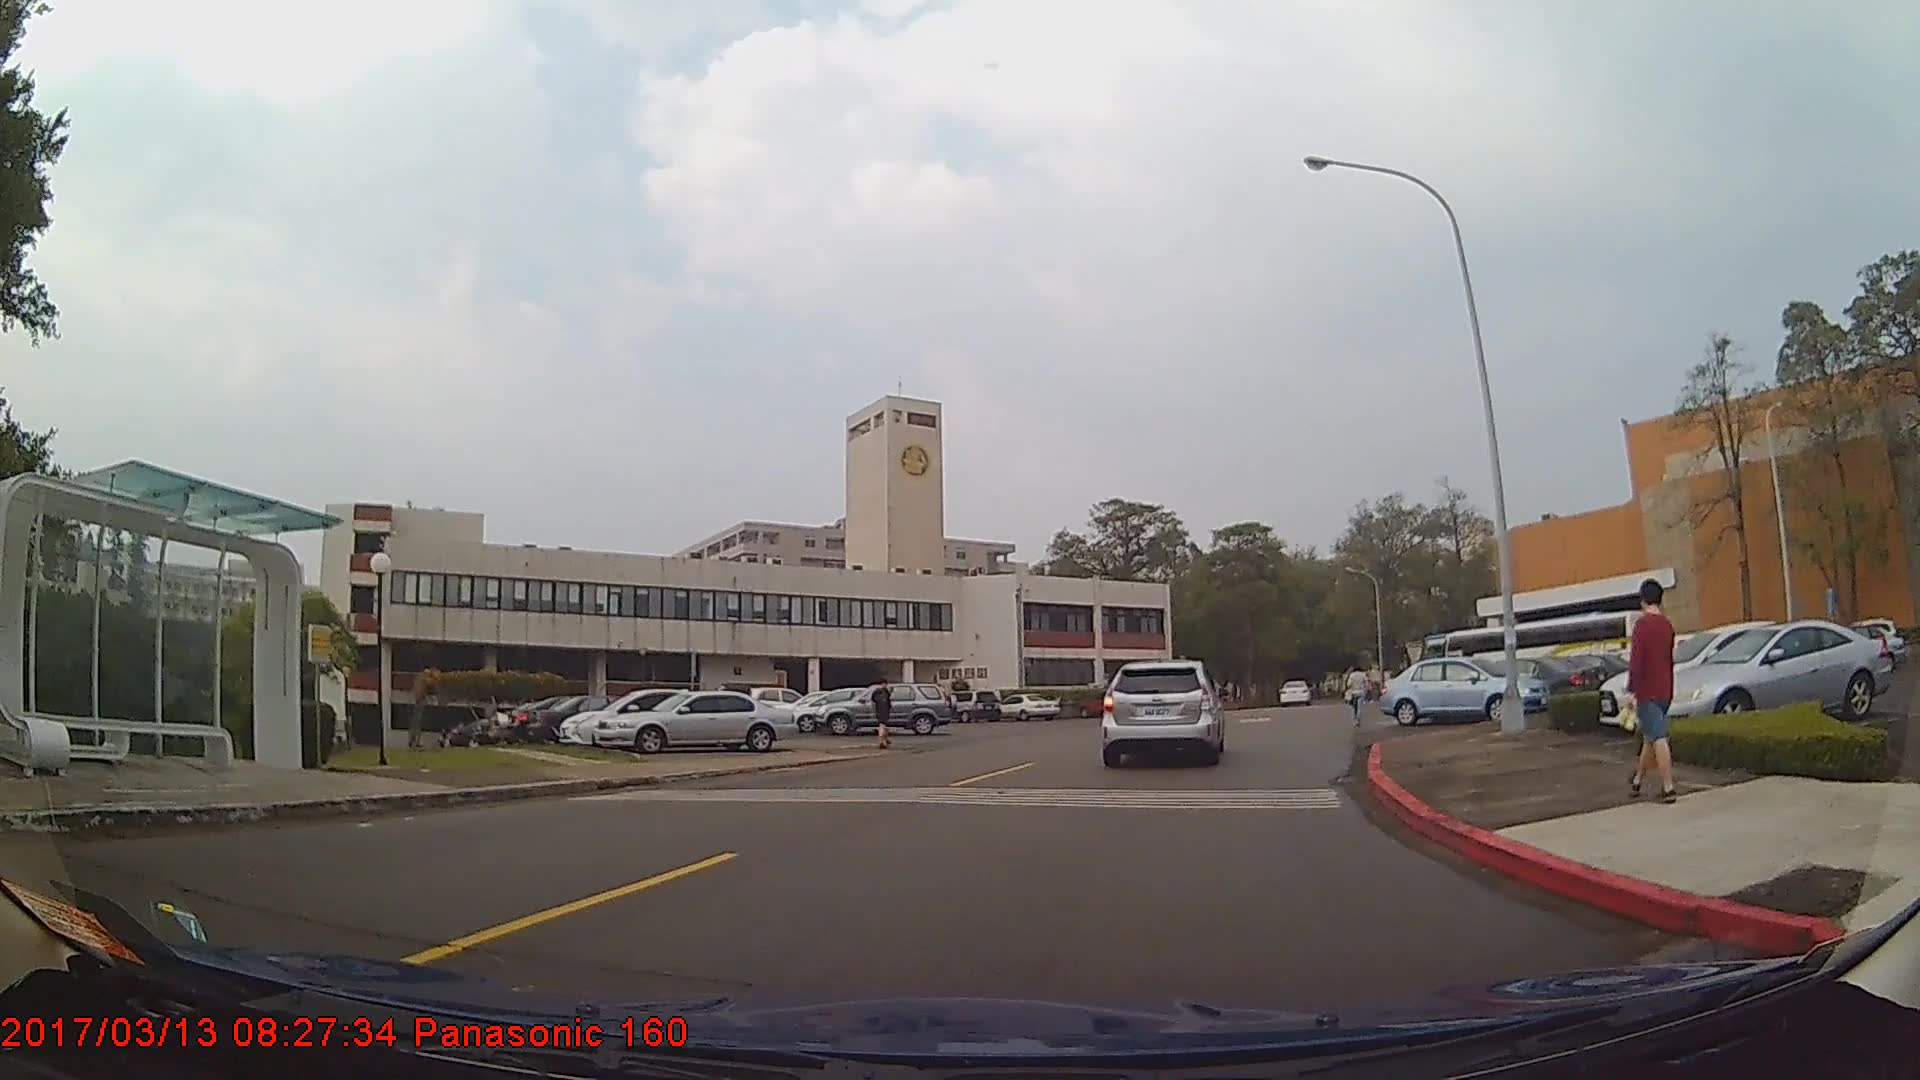pedestrian: (1628, 576, 1682, 803), (1344, 660, 1373, 728), (872, 676, 898, 750)
vehicle: (1598, 619, 1848, 726), (1657, 616, 1894, 727), (1102, 657, 1224, 767), (594, 692, 798, 756), (1376, 655, 1551, 726), (557, 688, 759, 749), (1447, 656, 1601, 706), (526, 693, 672, 746), (817, 684, 956, 737), (937, 690, 1002, 725), (993, 692, 1061, 723), (1279, 674, 1312, 703)
